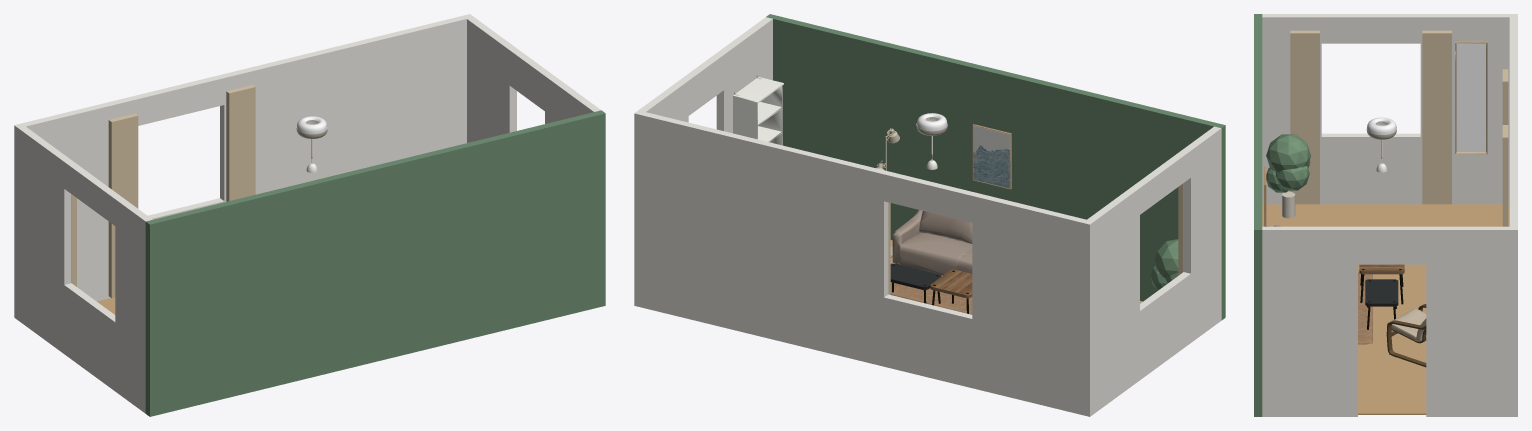
The model's file is salon.glb.
The picture shows the model from 3 angles, left to right: view 1: azimuth 30°, elevation 25°; view 2: azimuth 150°, elevation 25°; view 3: azimuth 270°, elevation 25°; orthographic projection. The views are drawn at different scales.
Parts seen in each view (by area): view 1: Mur_south, Mur_north, Mur_west, Mur_east, P10_rideau, P6_suspension; view 2: Mur_north, Mur_south, Mur_west, Mur_east, P0_canape, P3_etagere, P8_cadre, P2_table_basse, P4_tapis, P9_plante, P10_rideau, P6_suspension; view 3: Mur_east, Mur_west, Sol, P10_rideau, P7_miroir, Mur_north, Mur_south, P9_plante, P2_table_basse, P1_fauteuil, P4_tapis, P6_suspension.
Boxes of the visible parts, x1,y1,x2,y2 form: Mur_south: [145, 110, 605, 416]; Mur_north: [14, 14, 473, 320]; Mur_west: [18, 126, 152, 413]; Mur_east: [467, 17, 600, 142]; P10_rideau: [71, 85, 255, 298]; P6_suspension: [296, 116, 327, 172]; Mur_north: [634, 110, 1094, 416]; Mur_south: [766, 14, 1225, 320]; Mur_west: [1087, 126, 1221, 413]; Mur_east: [639, 17, 772, 133]; P0_canape: [892, 210, 972, 275]; P3_etagere: [733, 75, 783, 145]; P8_cadre: [972, 124, 1011, 189]; P2_table_basse: [890, 263, 972, 313]; P4_tapis: [890, 275, 972, 314]; P9_plante: [1150, 239, 1178, 290]; P10_rideau: [888, 183, 1183, 294]; P6_suspension: [916, 113, 947, 169]; Mur_east: [1262, 226, 1509, 416]; Mur_west: [1262, 14, 1509, 204]; Sol: [1262, 204, 1509, 414]; P10_rideau: [1290, 30, 1508, 226]; P7_miroir: [1455, 40, 1487, 154]; Mur_north: [1509, 14, 1517, 416]; Mur_south: [1254, 14, 1262, 416]; P9_plante: [1266, 134, 1310, 218]; P2_table_basse: [1359, 264, 1404, 329]; P1_fauteuil: [1386, 304, 1426, 367]; P4_tapis: [1358, 272, 1372, 344]; P6_suspension: [1366, 117, 1396, 172].
Size of the model in its own units: 6.2 by 2.52 by 3.2.
Materials: 16 (10 with a texture image).
